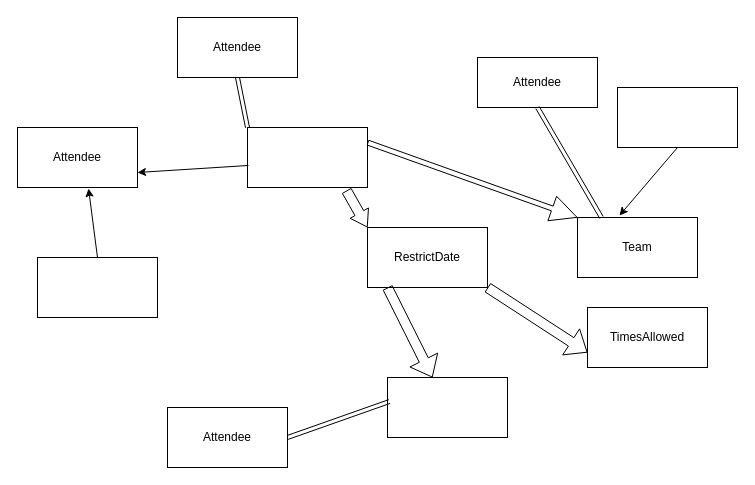
The diagram is 755 pixels wide and 485 high, and some of its shapes have lost their labels. Each missing label, with the centre of its shape:
AvatarSettings: point 97,287
Event: point 307,157
SuggestedDate: point 447,407
TeamAvatarSettings: point 677,117
